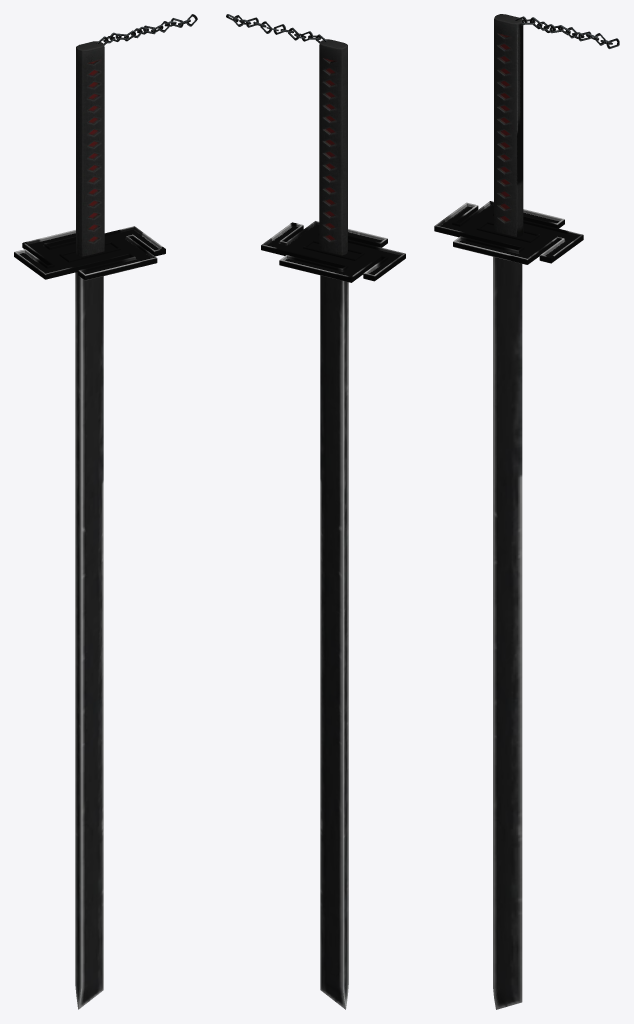
The model's file is zangetsu.glb.
3 renders of one model, left to right at view 1: azimuth 30°, elevation 25°; view 2: azimuth 150°, elevation 25°; view 3: azimuth 330°, elevation 25°, orthographic. The views are drawn at different scales.
Visible parts, largest first — view 1: zangetsu_blade, zangetsu_grip, zangetsu_guard, zangetsu_chain_mesh; view 2: zangetsu_blade, zangetsu_grip, zangetsu_guard, zangetsu_chain_mesh; view 3: zangetsu_blade, zangetsu_grip, zangetsu_guard, zangetsu_chain_mesh.
Boxes of the visible parts, x1,y1,x2,y2 form: zangetsu_blade: (75,272,103,1009); zangetsu_grip: (76,41,104,256); zangetsu_guard: (14,226,165,280); zangetsu_chain_mesh: (96,14,197,45); zangetsu_blade: (320,275,348,1009); zangetsu_grip: (319,39,347,255); zangetsu_guard: (261,221,405,282); zangetsu_chain_mesh: (226,14,327,43); zangetsu_blade: (493,256,522,1009); zangetsu_grip: (494,14,523,236); zangetsu_guard: (434,201,583,264); zangetsu_chain_mesh: (515,16,619,48).
Bounding box in the file's own units: 0.2344 × 1.31 × 0.1208.
1 material, 1 textured.
